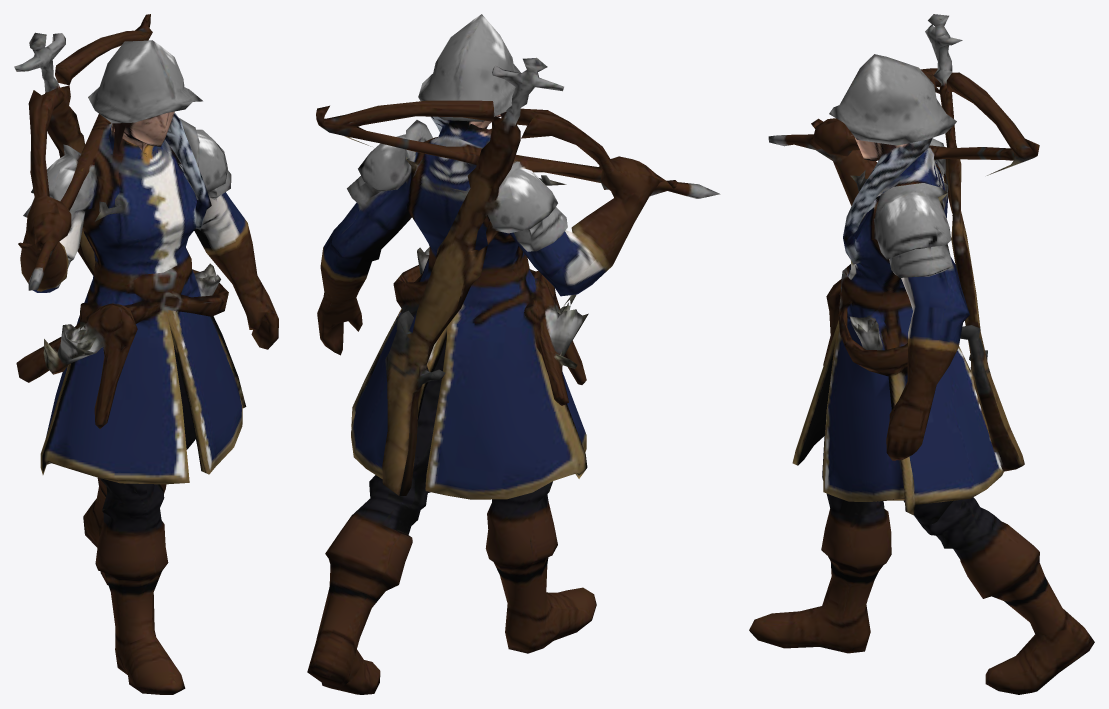
The model's file is crossbowmen_march.glb.
3 views of the same model, side by side, from view 1: azimuth 30°, elevation 25°; view 2: azimuth 150°, elevation 25°; view 3: azimuth 270°, elevation 25° (orthographic). The views are drawn at different scales.
Visible parts, largest first — view 1: world; view 2: world; view 3: world.
Part boxes in pixels (x1,y1,x2,y2): world: (14,14,278,694); world: (307,14,720,694); world: (749,14,1094,694).
Bounding box in the file's own units: 0.5382 × 0.9956 × 0.5135.
Materials: 1 (1 with a texture image).
